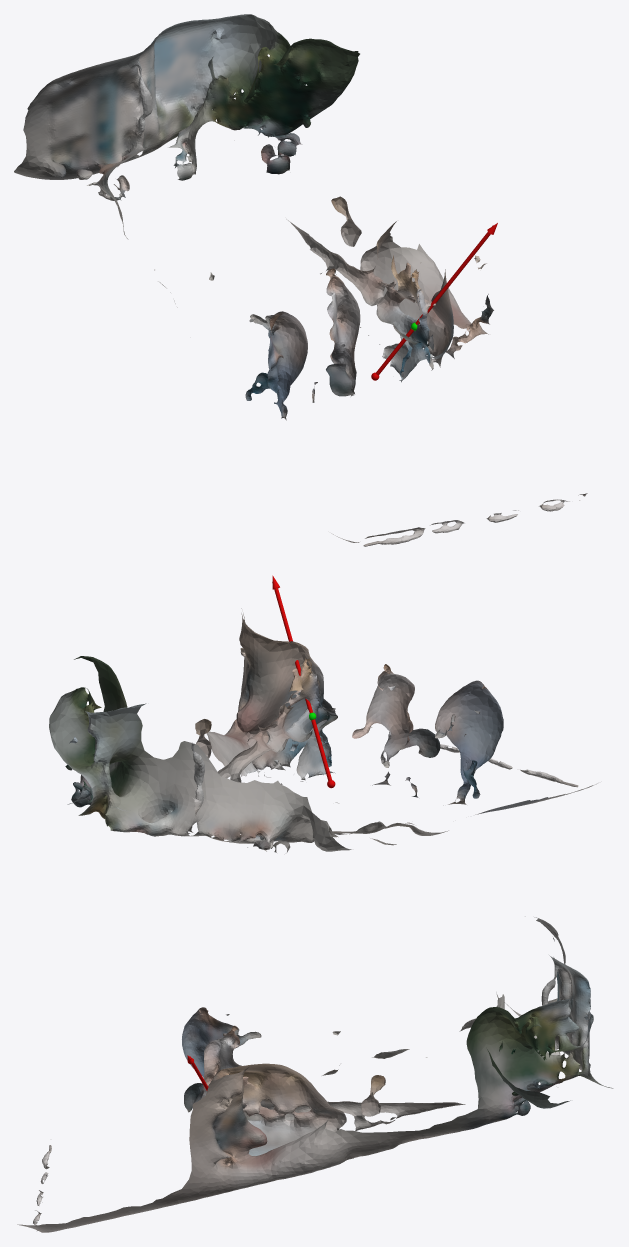
The model's file is scene_combined.glb.
3 renders of one model, top to bottom at view 1: azimuth 30°, elevation 25°; view 2: azimuth 150°, elevation 25°; view 3: azimuth 270°, elevation 25°, orthographic. The views are drawn at different scales.
Size of the model in its own units: 2.58 by 2.27 by 5.33.
